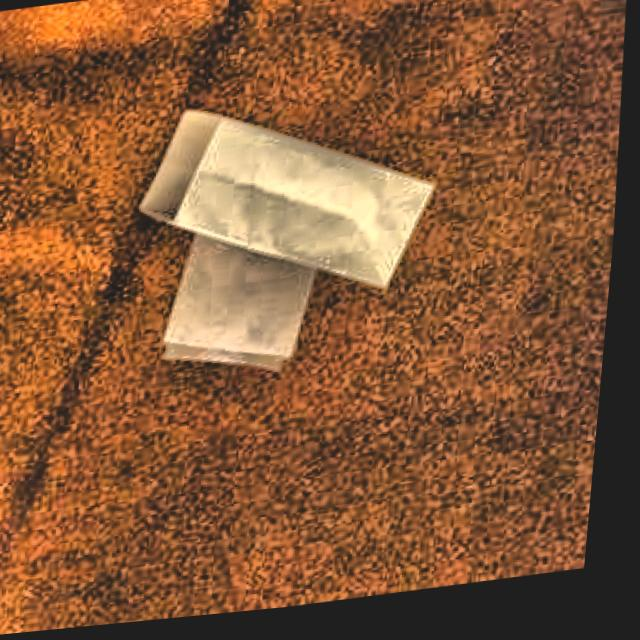Paper-bag: (131, 81, 450, 324), (160, 137, 368, 412)
